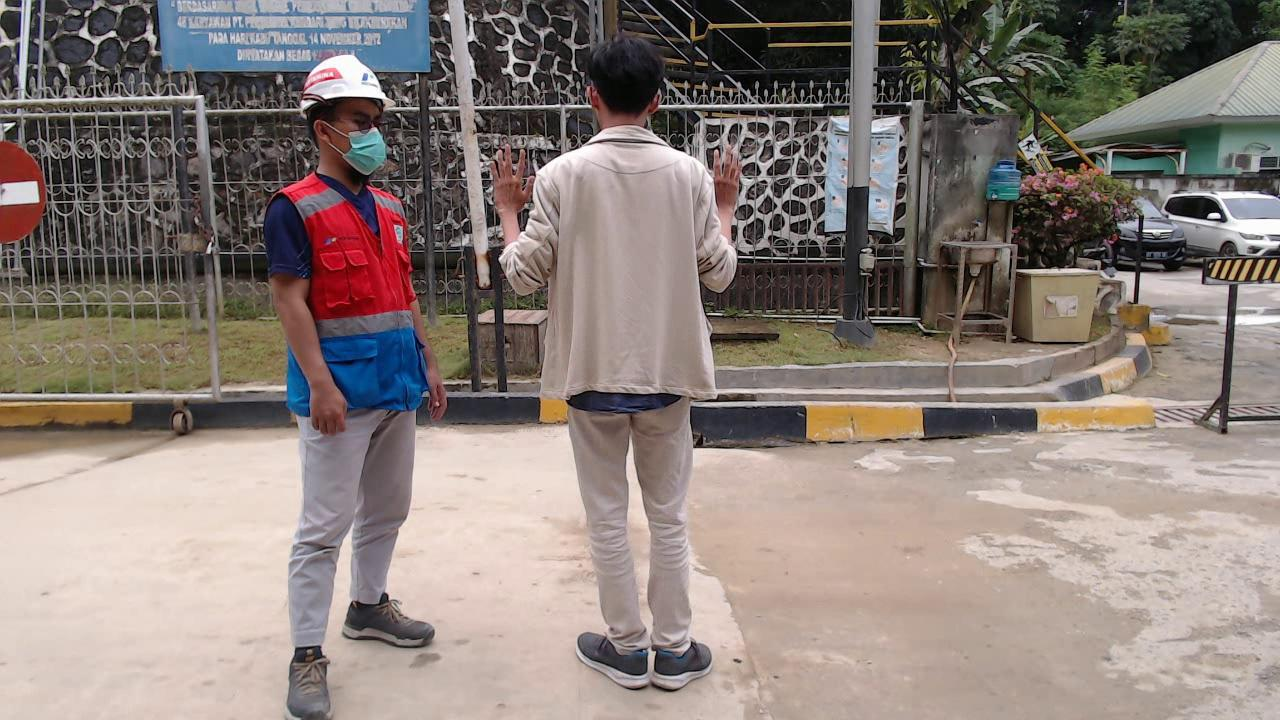helmet: (282, 52, 402, 107)
mask: (326, 127, 400, 180)
safety-shoes: (336, 581, 440, 654), (569, 622, 651, 690), (273, 640, 342, 720), (655, 629, 712, 694)
